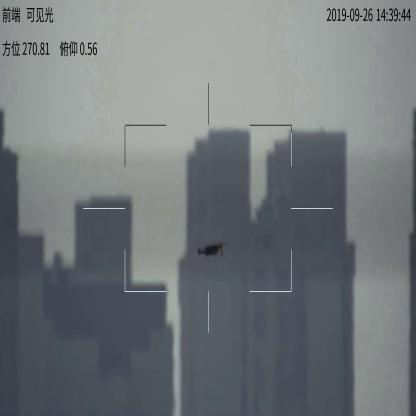uav: (194, 238, 227, 260)
